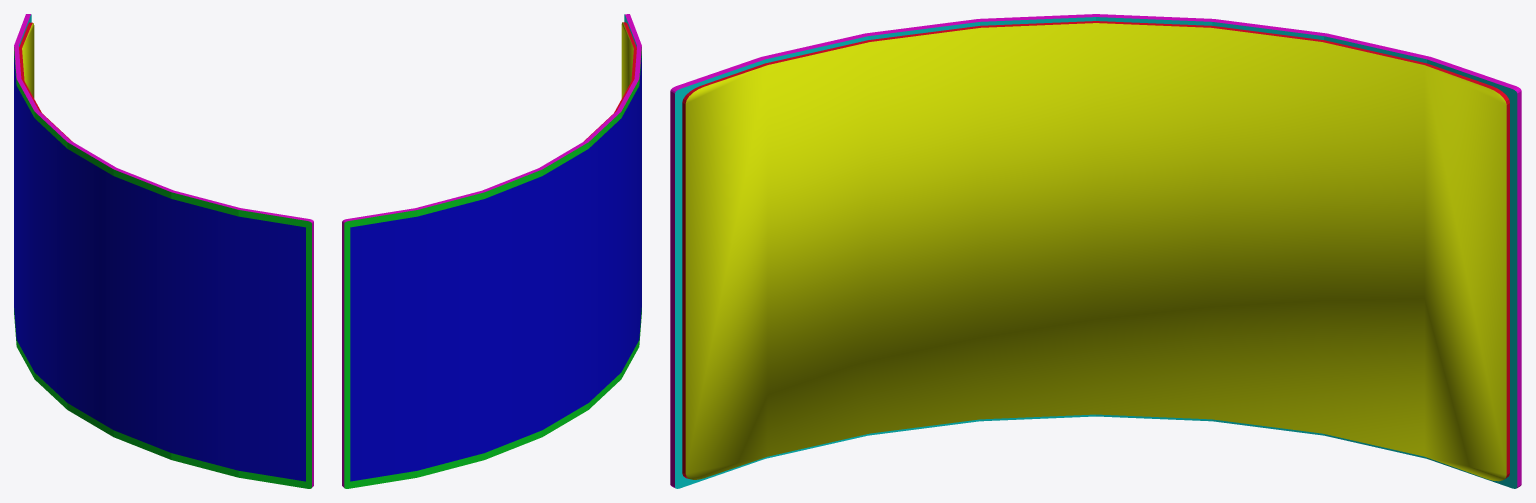
The picture shows the model from 3 angles, left to right: view 1: azimuth 30°, elevation 25°; view 2: azimuth 150°, elevation 25°; view 3: azimuth 270°, elevation 25°; orthographic projection. The views are drawn at different scales.
Visible parts, largest first — view 1: Cylinder; view 2: Cylinder; view 3: Cylinder.
Boxes of the visible parts, x1=… form: Cylinder: x1=14, y1=14, x2=313, y2=488; Cylinder: x1=342, y1=14, x2=641, y2=488; Cylinder: x1=670, y1=14, x2=1521, y2=488.
Bounding box in the file's own units: 0.7622 × 1.85 × 3.57.
